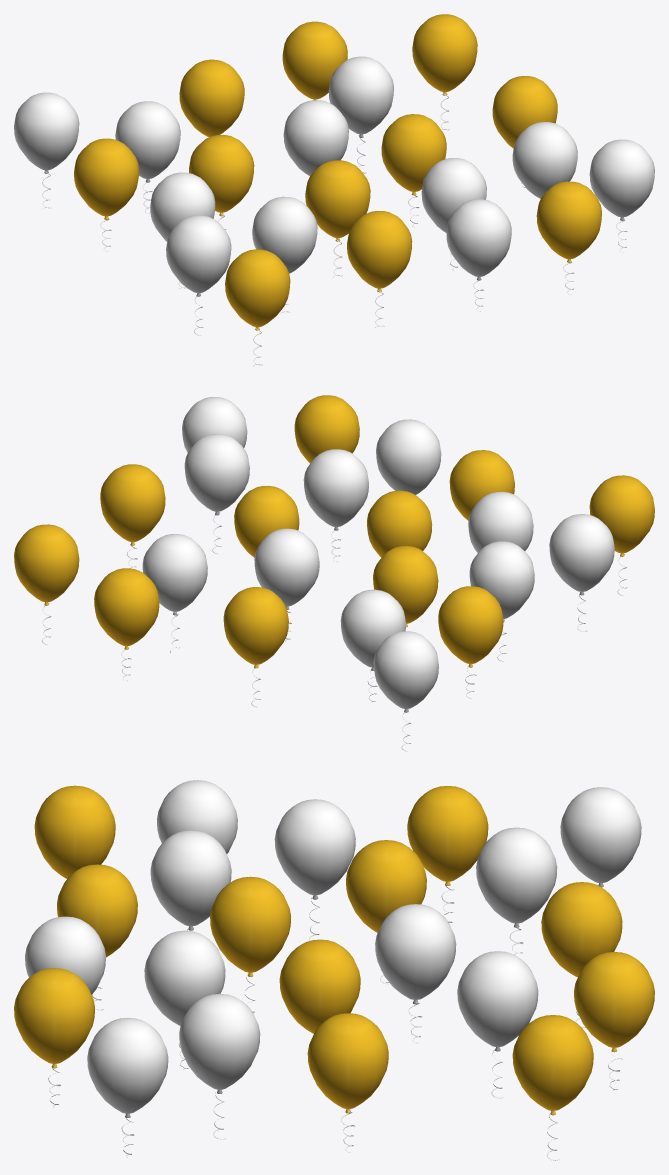
File: PartyBalloons03_GR11_1.FBX
3 views of the same model, one above another, from view 1: azimuth 30°, elevation 25°; view 2: azimuth 150°, elevation 25°; view 3: azimuth 270°, elevation 25° (orthographic). The views are drawn at different scales.
Visible parts, largest first — view 1: PartyBalloons03_GR11_1; view 2: PartyBalloons03_GR11_1; view 3: PartyBalloons03_GR11_1.
Boxes of the visible parts, <box> form: PartyBalloons03_GR11_1: <box>14,14,654,365</box>; PartyBalloons03_GR11_1: <box>14,395,654,751</box>; PartyBalloons03_GR11_1: <box>14,780,654,1160</box>.
Size of what is drawn, in the model's own units: 2.81 by 0.6818 by 2.8.
